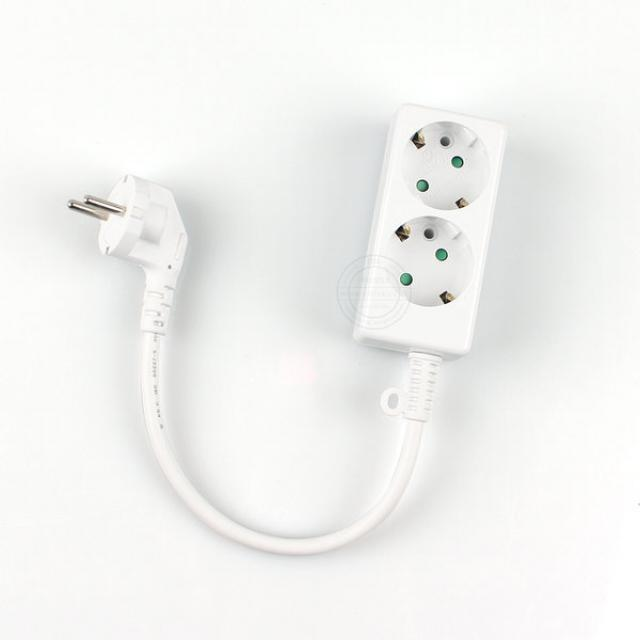typeb: (298, 67, 554, 414)
